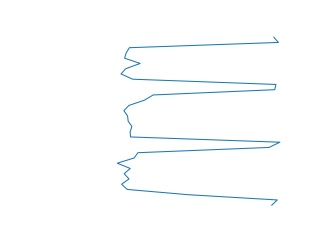majorRiverChannelBar: (114, 37, 286, 209)
